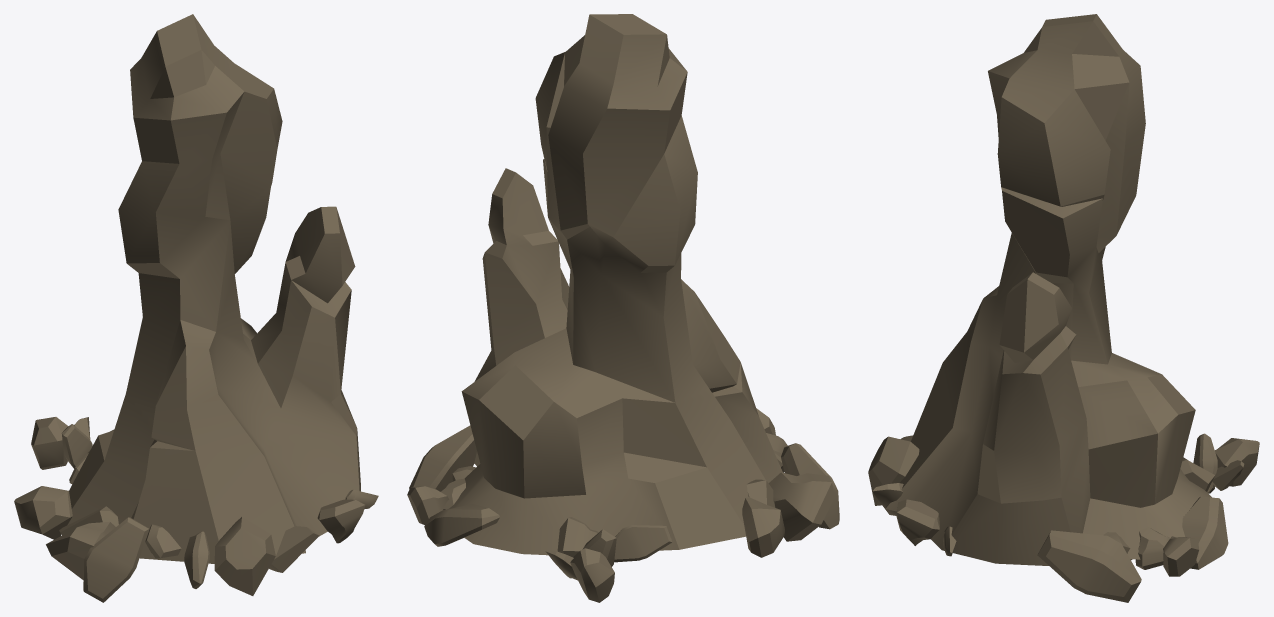
Rendered from dixing2.FBX.
3 views of the same model, side by side, from view 1: azimuth 30°, elevation 25°; view 2: azimuth 150°, elevation 25°; view 3: azimuth 270°, elevation 25° (orthographic). The views are drawn at different scales.
Parts seen in each view (by area): view 1: Column01; view 2: Column01; view 3: Column01.
Boxes of the visible parts, x1=… form: Column01: x1=14, y1=14, x2=378, y2=602; Column01: x1=407, y1=14, x2=839, y2=602; Column01: x1=868, y1=14, x2=1259, y2=602.
Bounding box in the file's own units: 9.02 × 12.88 × 8.89.
